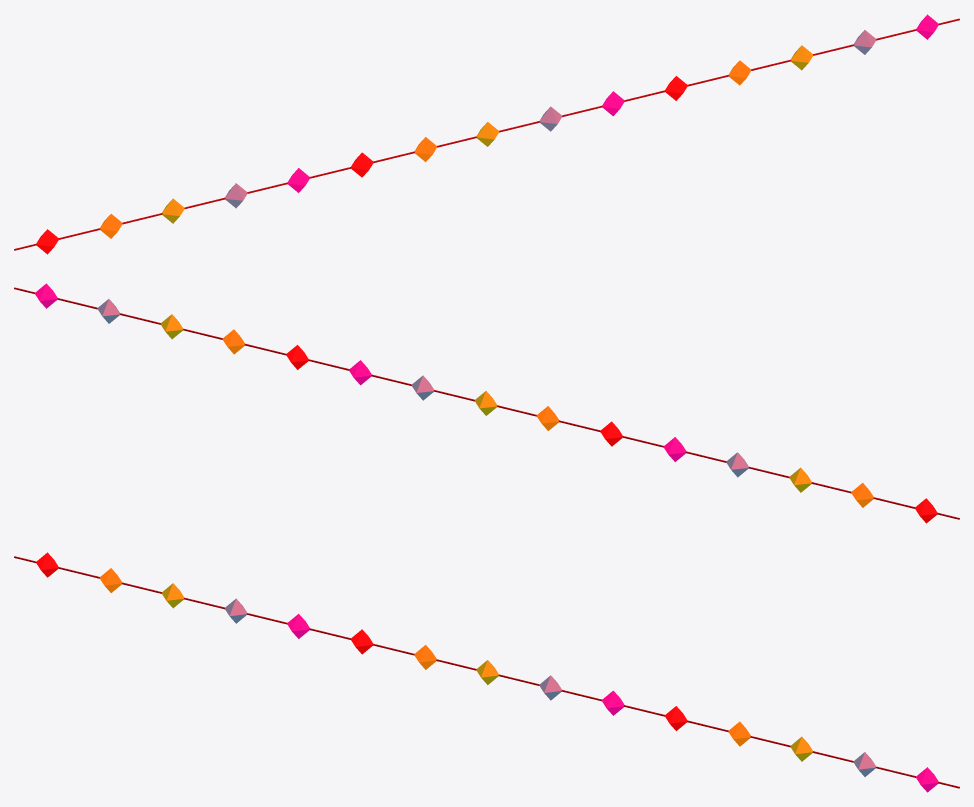
The model's file is Garland.glb.
The picture shows the model from 3 angles, top to bottom: view 1: azimuth 30°, elevation 25°; view 2: azimuth 150°, elevation 25°; view 3: azimuth 330°, elevation 25°; orthographic projection.
Parts seen in each view (by area): view 1: garland; view 2: garland; view 3: garland.
Boxes of the visible parts, bbox=[...] form: garland: bbox=[14, 14, 959, 254]; garland: bbox=[14, 283, 959, 523]; garland: bbox=[14, 552, 959, 792].
Size of what is drawn, in the model's own units: 15.03 by 0.3875 by 0.3813.
